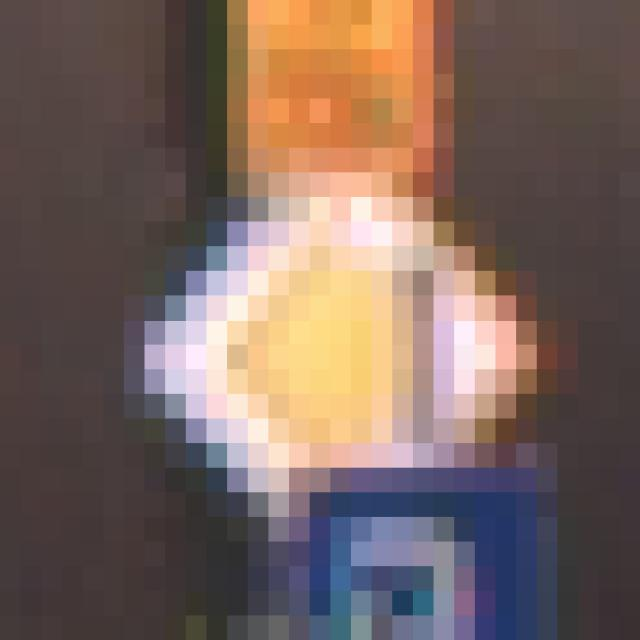Main Road: (125, 124, 517, 493)
